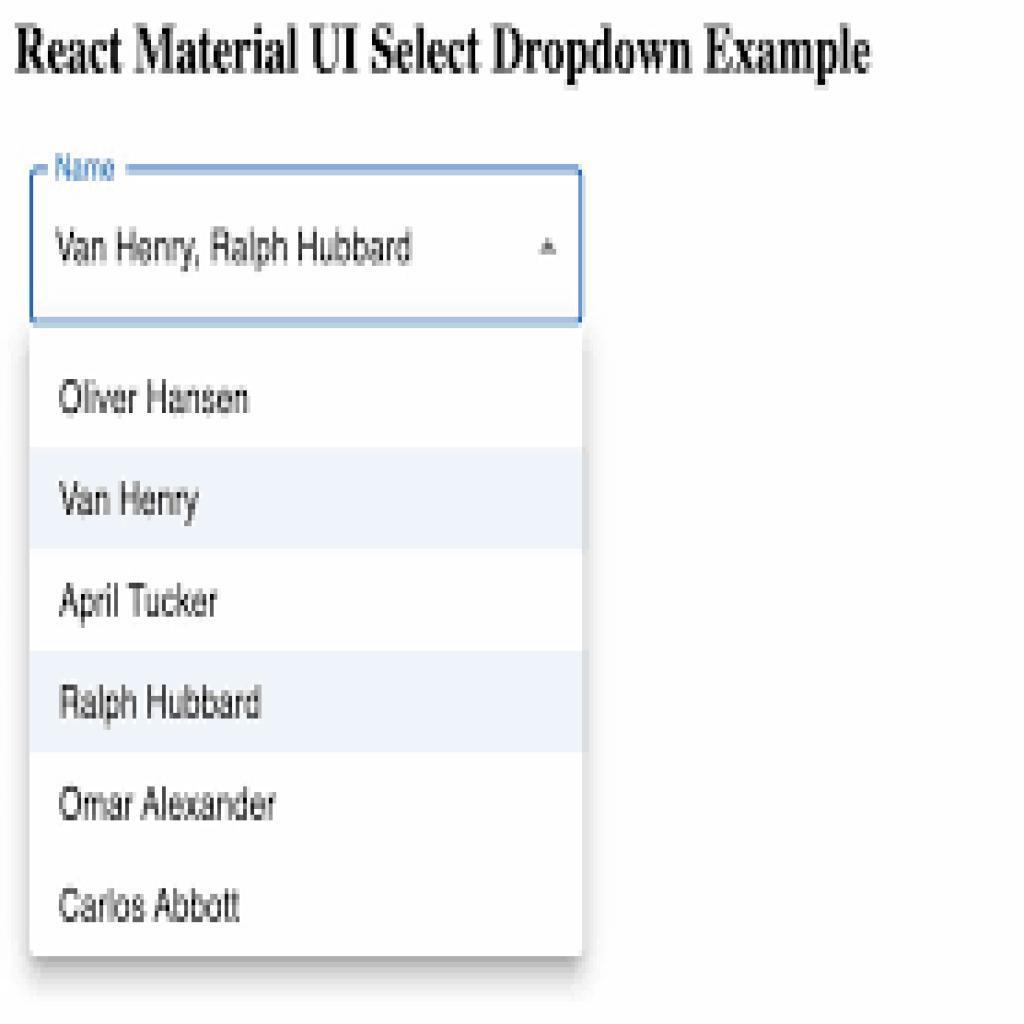dropdown: (32, 168, 585, 320)
